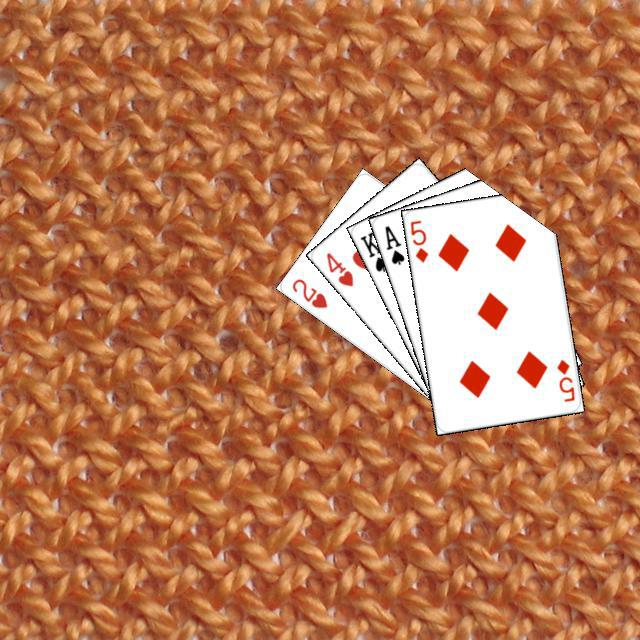2h: (287, 273, 329, 310)
4h: (321, 247, 355, 288)
5d: (405, 215, 430, 264), (552, 354, 576, 403)
As: (380, 220, 406, 266)
Ks: (355, 226, 391, 274)
